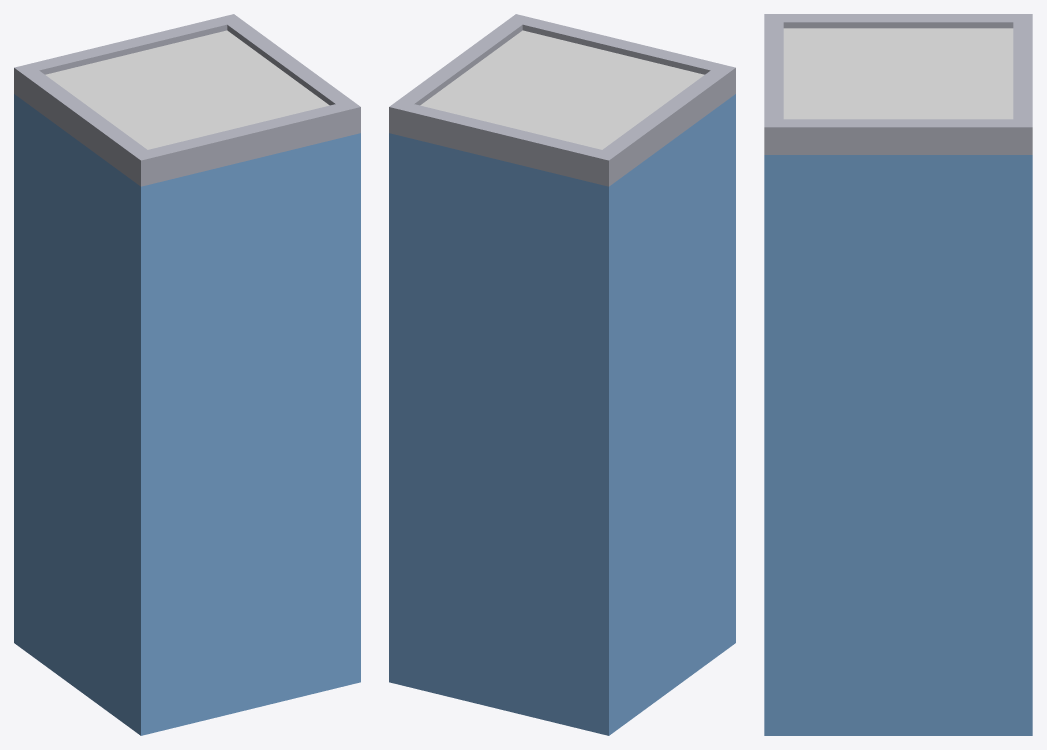
File: SM_Building_20x50.fbx
3 renders of one model, left to right at view 1: azimuth 30°, elevation 25°; view 2: azimuth 150°, elevation 25°; view 3: azimuth 270°, elevation 25°, orthographic. The views are drawn at different scales.
Parts seen in each view (by area): view 1: Building_20x50; view 2: Building_20x50; view 3: Building_20x50.
Part boxes in pixels (x1=…): Building_20x50: x1=14, y1=14, x2=360, y2=735; Building_20x50: x1=389, y1=14, x2=735, y2=735; Building_20x50: x1=764, y1=14, x2=1032, y2=735.
Bounding box in the file's own units: 2000 × 5000 × 2000.
